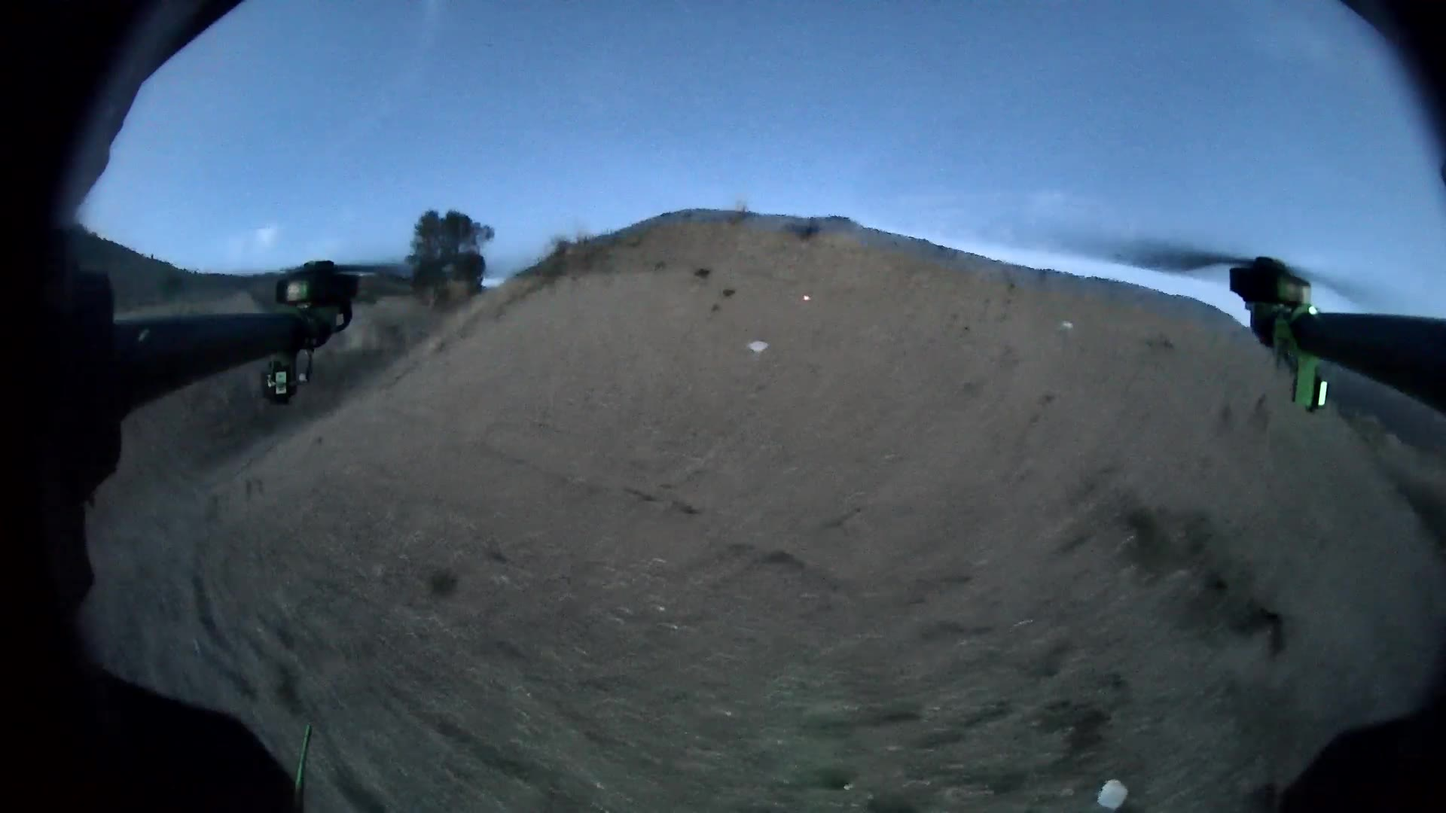Target: (1098, 779, 1131, 809), (747, 340, 769, 352)
